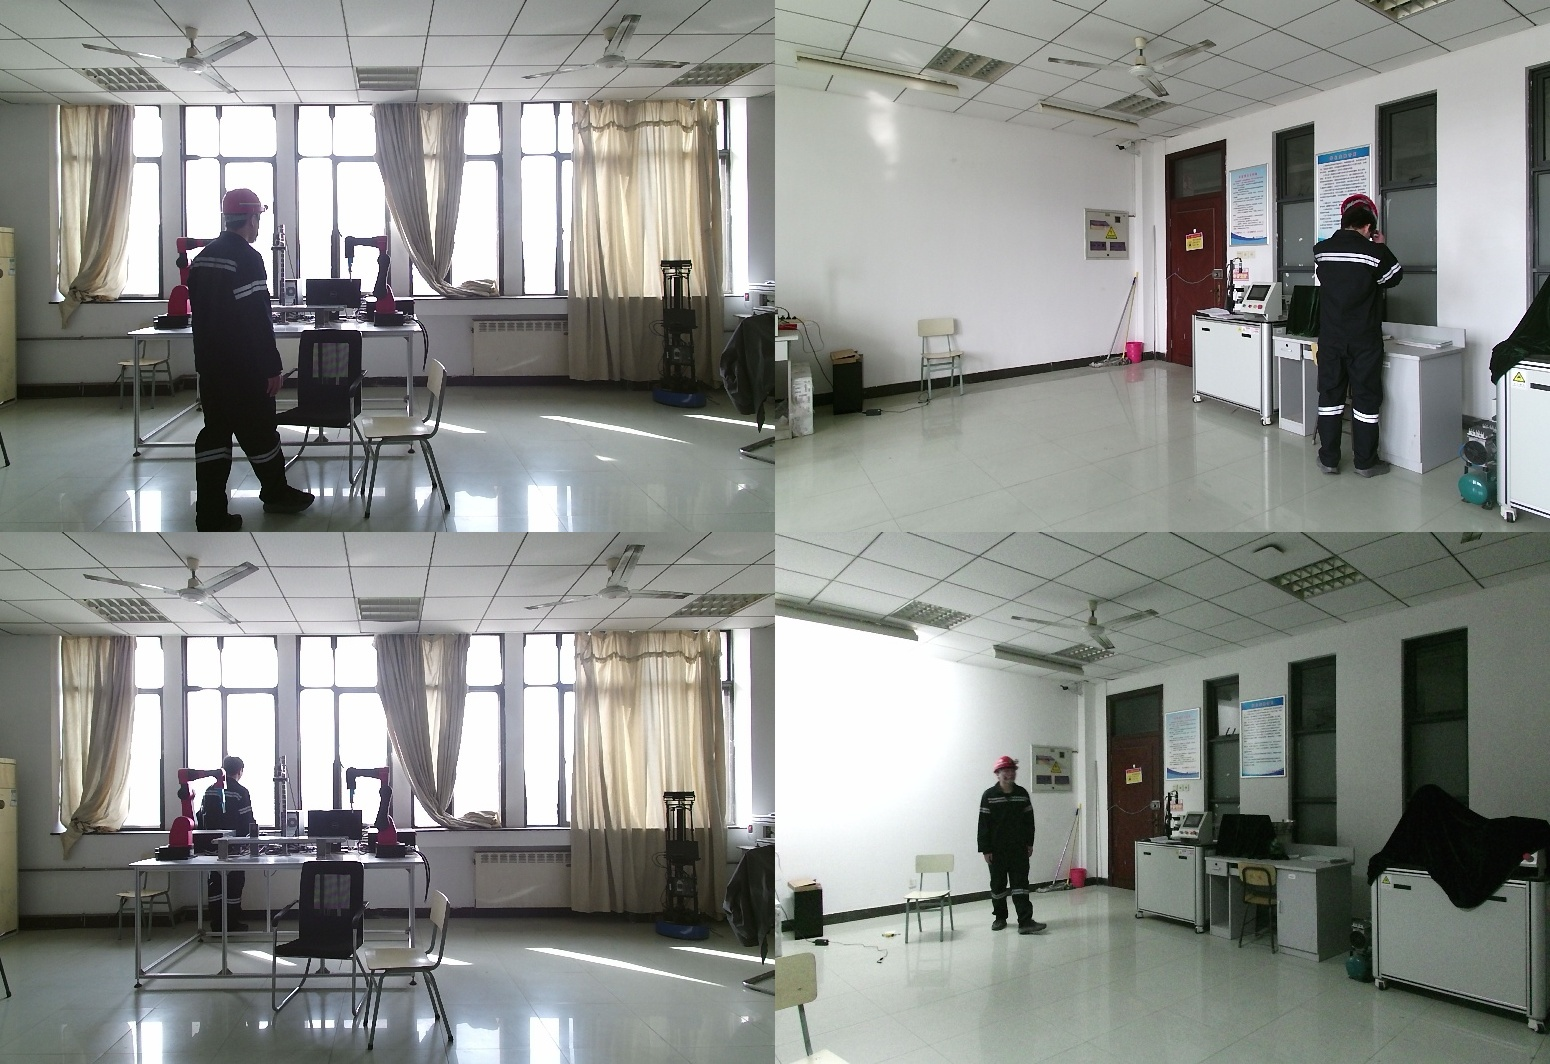person: (182, 187, 312, 532), (1311, 199, 1425, 479), (967, 756, 1045, 943), (198, 760, 254, 949)
